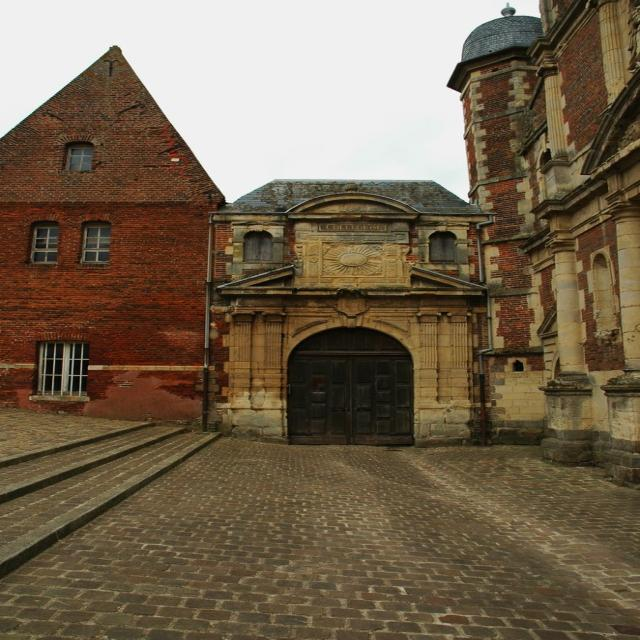door_local: (283, 325, 422, 446)
